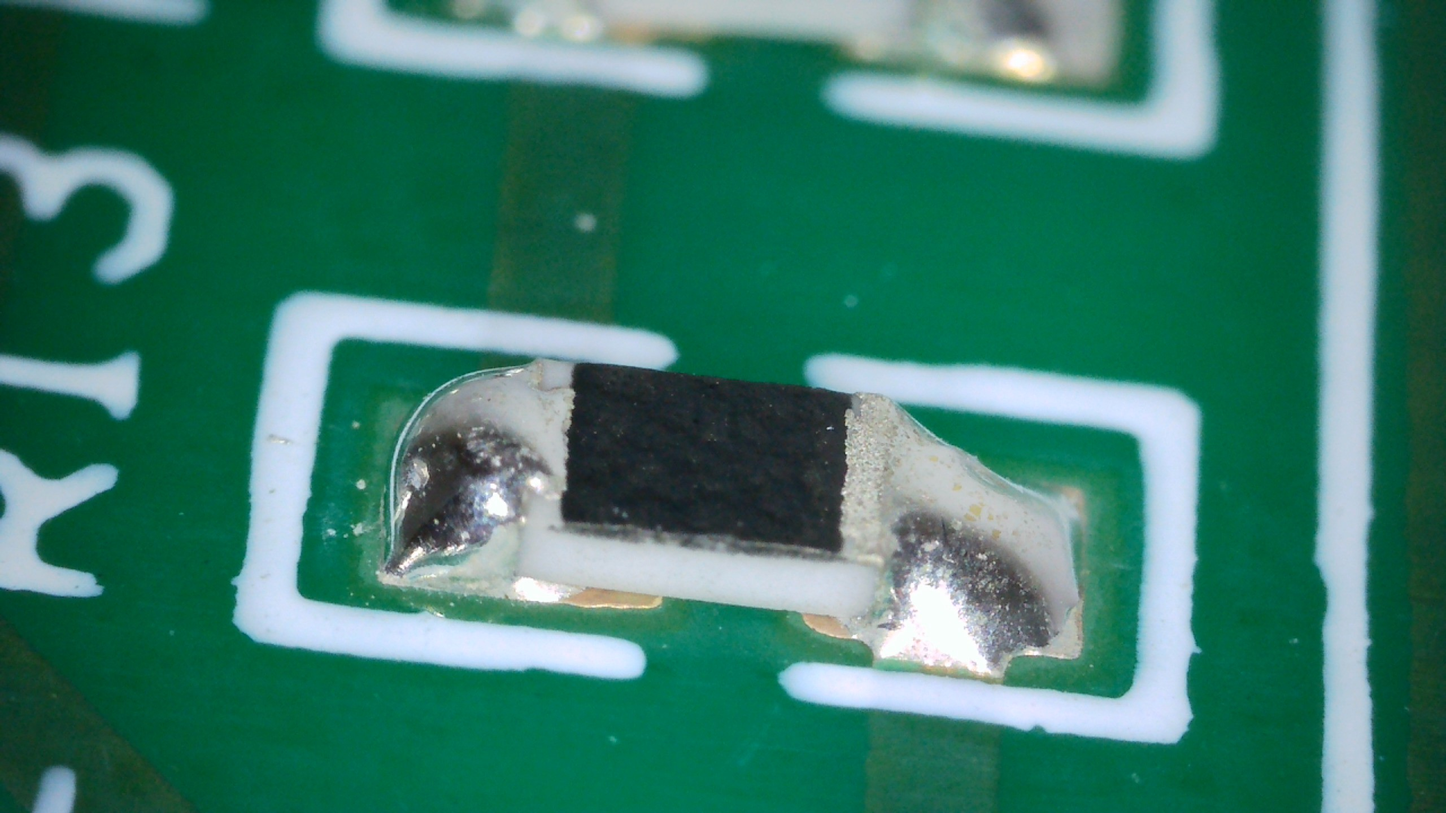NG: (833, 393, 1082, 677), (375, 359, 593, 607)
